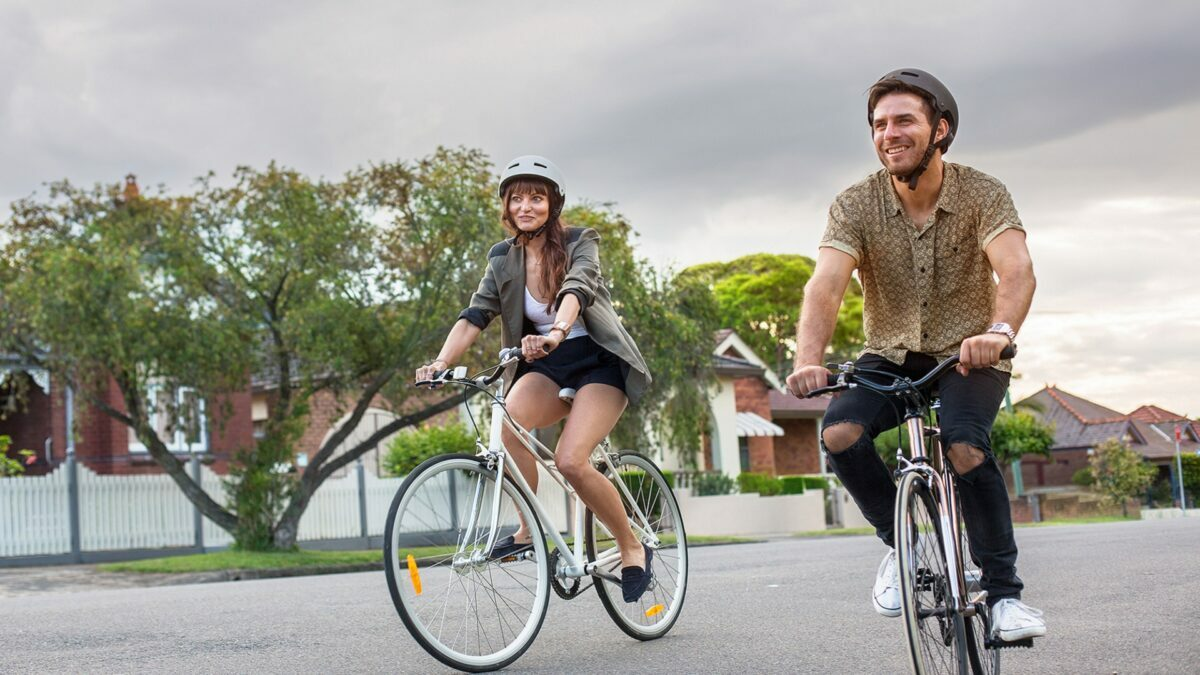commuter: (779, 68, 1051, 675), (376, 157, 688, 675)
